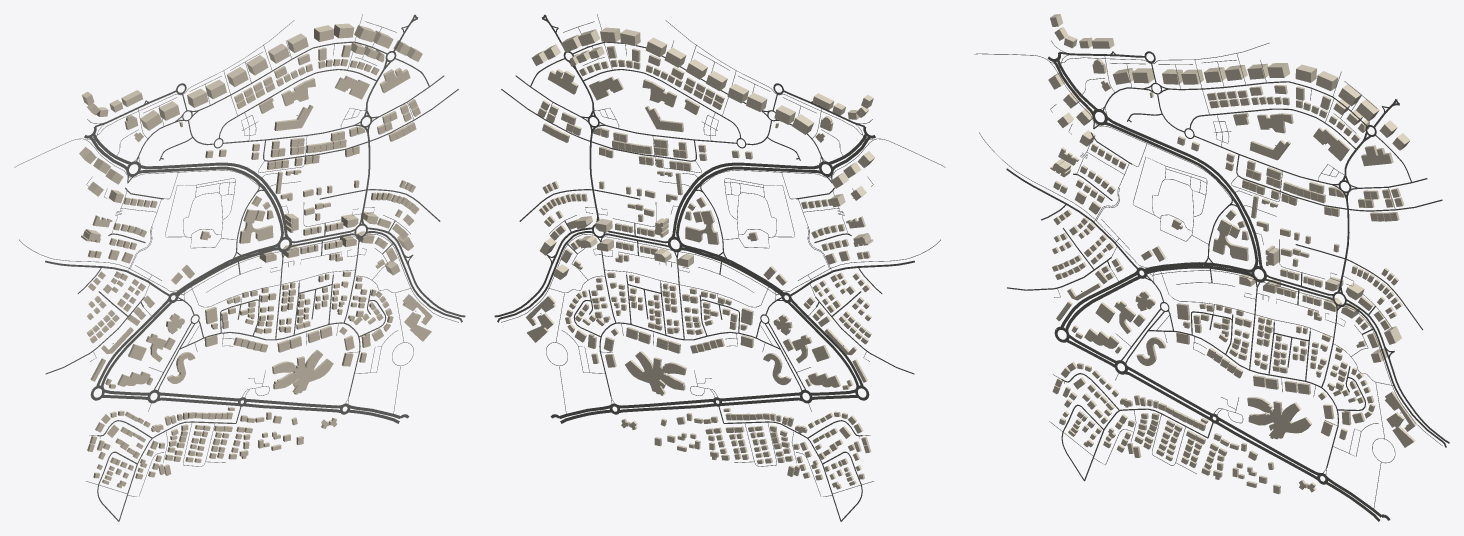
File: historic-palestine-04_21_3459_3153.glb
3 views of the same model, side by side, from view 1: azimuth 30°, elevation 25°; view 2: azimuth 150°, elevation 25°; view 3: azimuth 330°, elevation 25° (orthographic). The views are drawn at different scales.
Parts seen in each view (by area): view 1: Building_.308, Road נחל הירדן.003, Road נחל הירדן.001, Building_.425, Road .078; view 2: Building_.308, Road נחל הירדן.003, Road נחל הירדן.001, Building_.425, Road .078; view 3: Building_.308, Road נחל הירדן.003, Road נחל הירדן.001, Building_.425, Road .078, Building_.386, Building_.424.
Part boxes in pixels (x1=…): Building_.308: x1=272, y1=350, x2=333, y2=394; Road נחל הירדן.003: x1=140, y1=162, x2=288, y2=237; Road נחל הירדן.001: x1=138, y1=166, x2=283, y2=240; Building_.425: x1=239, y1=209, x2=273, y2=243; Road .078: x1=19, y1=234, x2=458, y2=322; Building_.308: x1=625, y1=350, x2=686, y2=395; Road נחל הירדן.003: x1=671, y1=162, x2=818, y2=238; Road נחל הירדן.001: x1=676, y1=166, x2=821, y2=240; Building_.425: x1=685, y1=210, x2=719, y2=244; Road .078: x1=501, y1=234, x2=940, y2=322; Building_.308: x1=1247, y1=397, x2=1311, y2=439; Road נחל הירדן.003: x1=1106, y1=116, x2=1263, y2=268; Road נחל הירדן.001: x1=1104, y1=122, x2=1258, y2=268; Building_.425: x1=1212, y1=219, x2=1248, y2=260; Road .078: x1=979, y1=132, x2=1442, y2=445; Building_.386: x1=1313, y1=127, x2=1349, y2=161; Building_.424: x1=1257, y1=113, x2=1293, y2=133.
Bounding box in the file's own units: 1308 × 1272 × 32.59.
